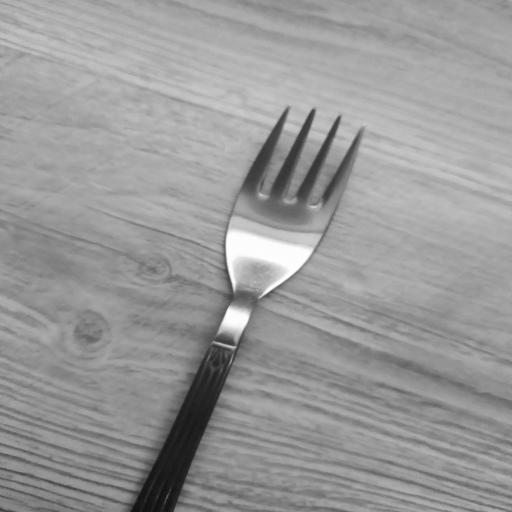fork: (122, 101, 378, 512)
